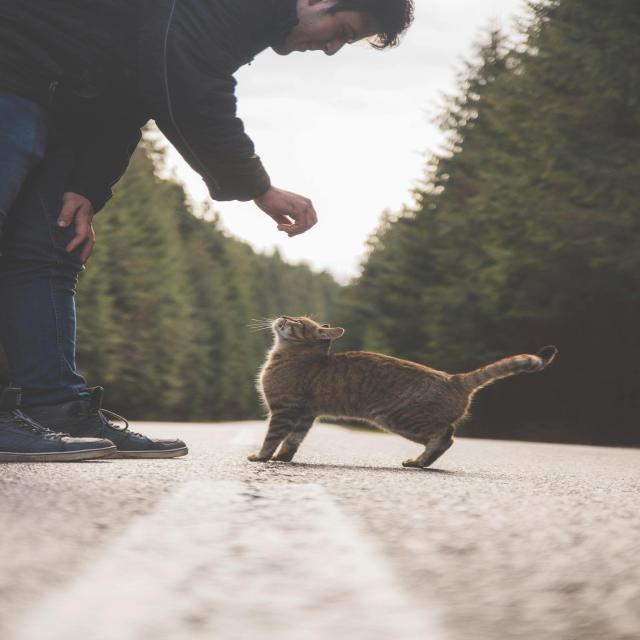Cat: (245, 314, 558, 469)
